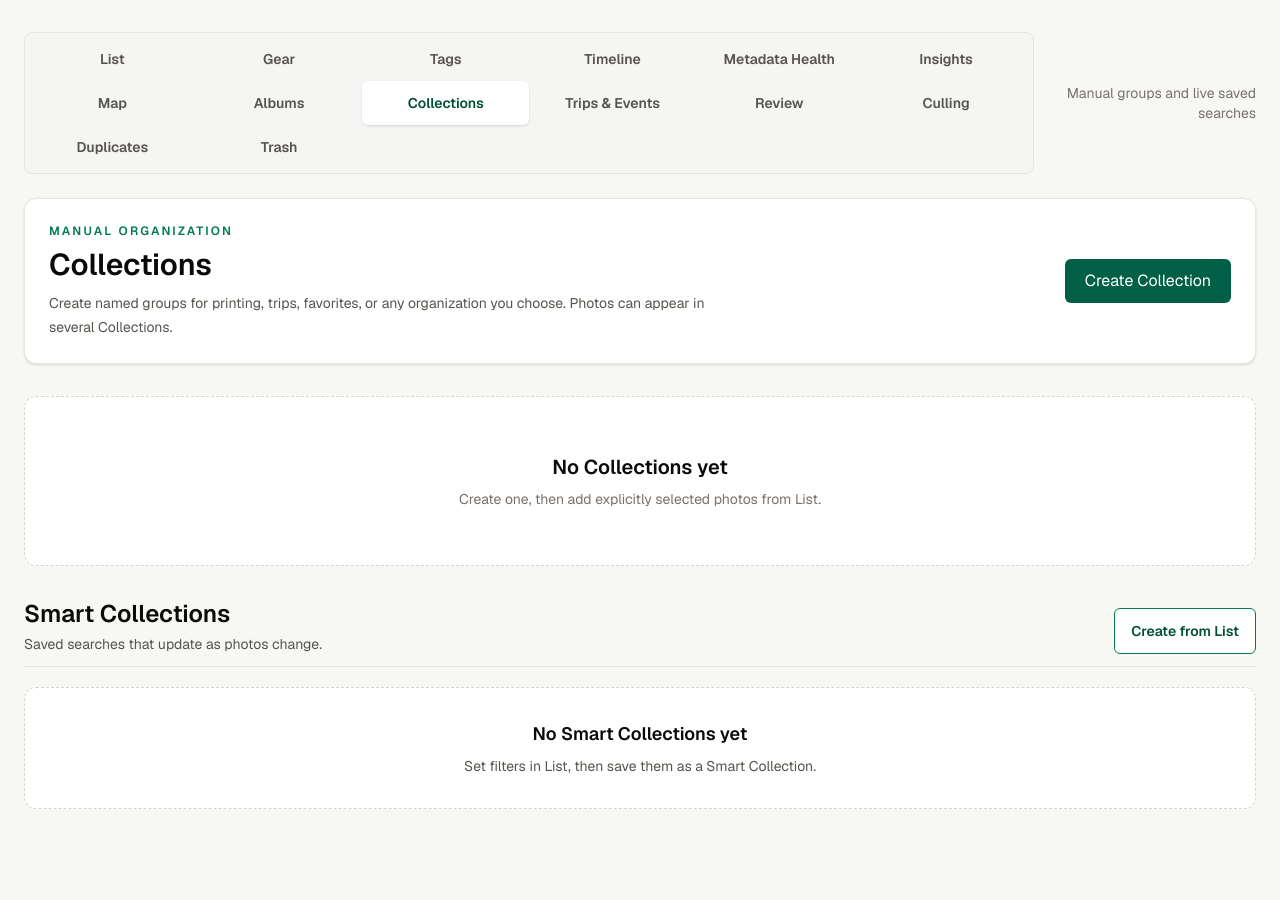
Test: empty Collection index surfaces an authoritative create conflict without closing
expect the heading "No Collections yet" is shown: met, box [552,454,728,480]
Click the button "Create Collection" at (1148, 281), box [1065,259,1231,303]
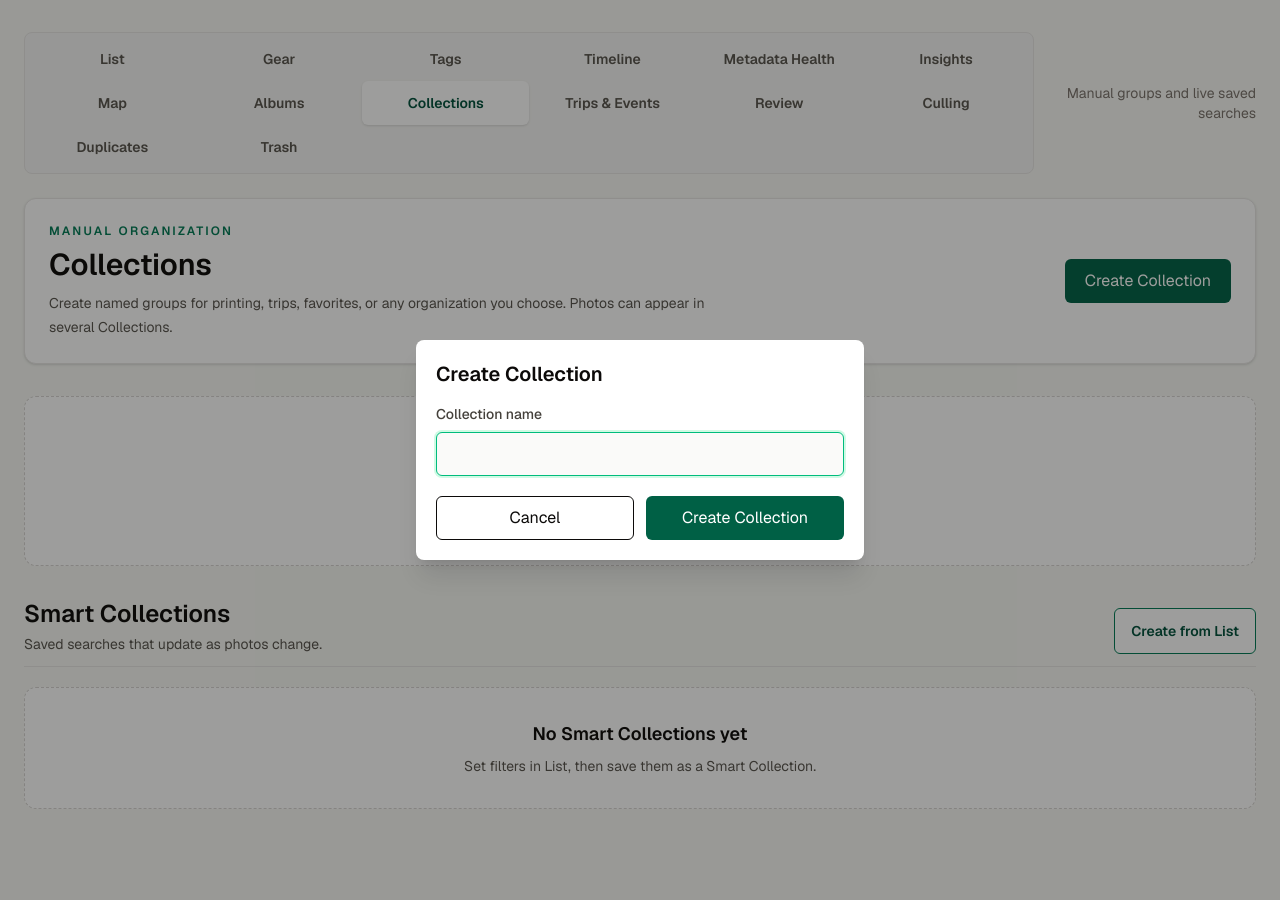
Type "Existing" into the field labelled "Collection name" at (640, 454), box [436,432,844,476]
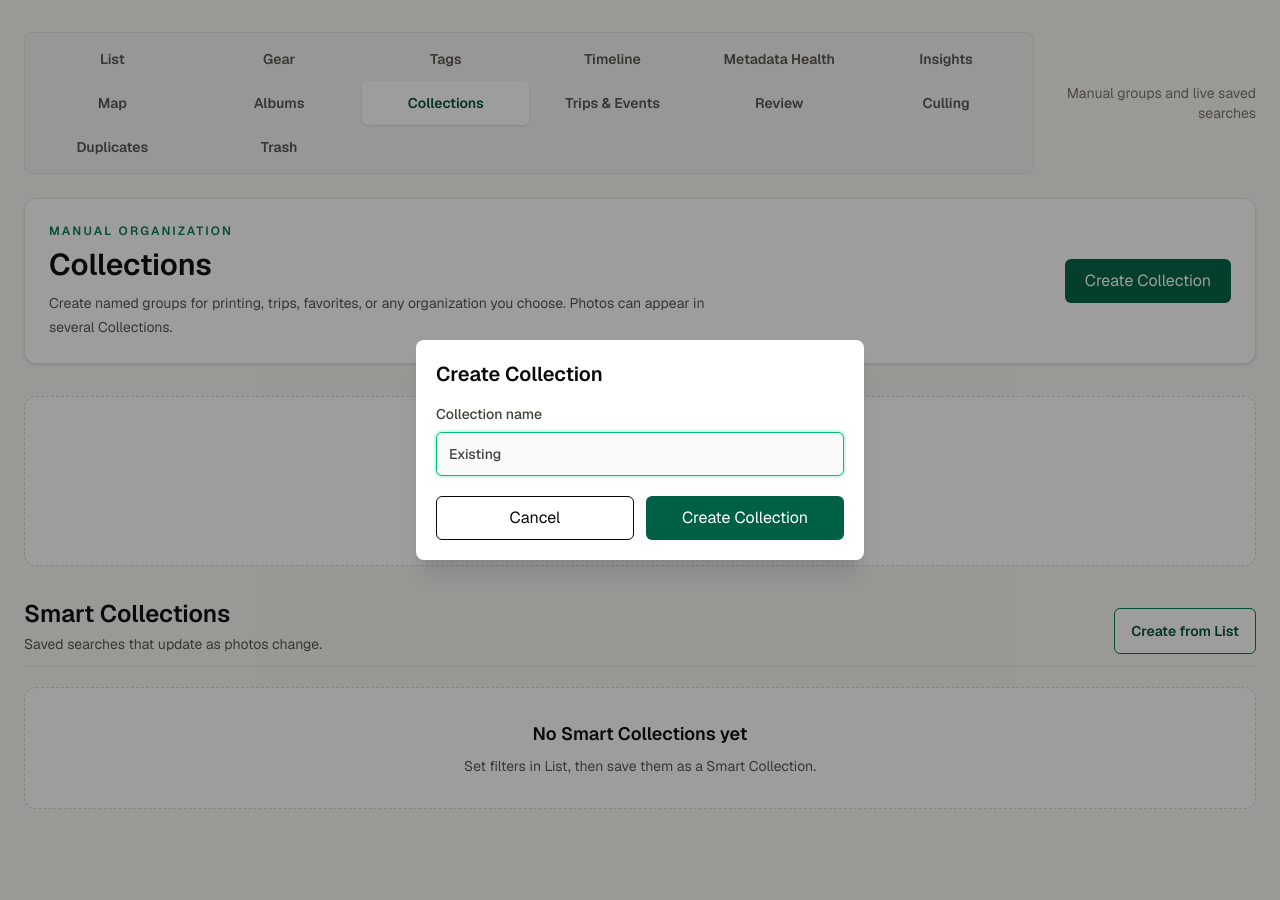
Click the button "Create Collection" at (745, 518), box [646,496,844,540]
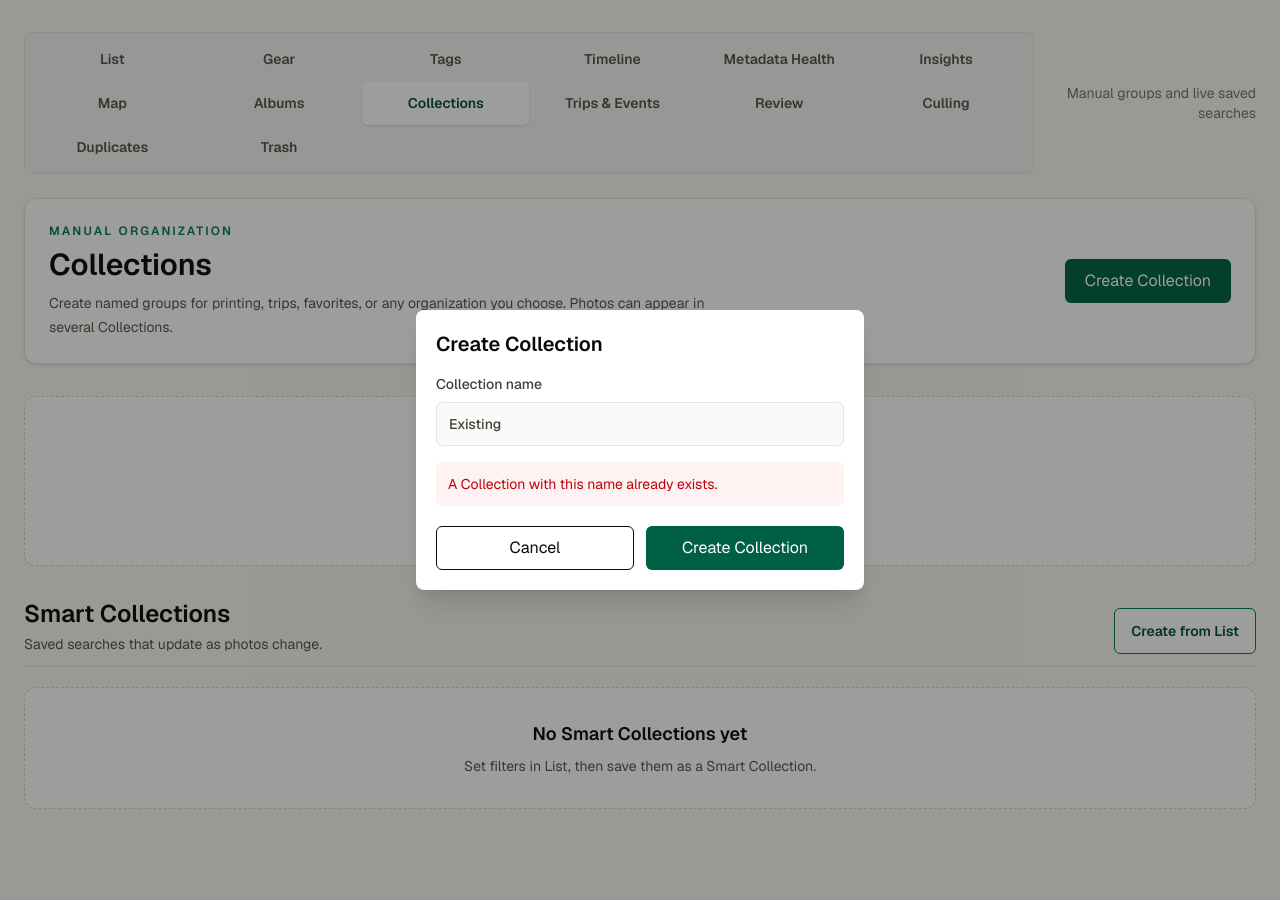
expect the dialog "Create Collection" is shown: met, box [416,310,864,590]
expect the message shows "already exists": met, box [448,475,717,493]
